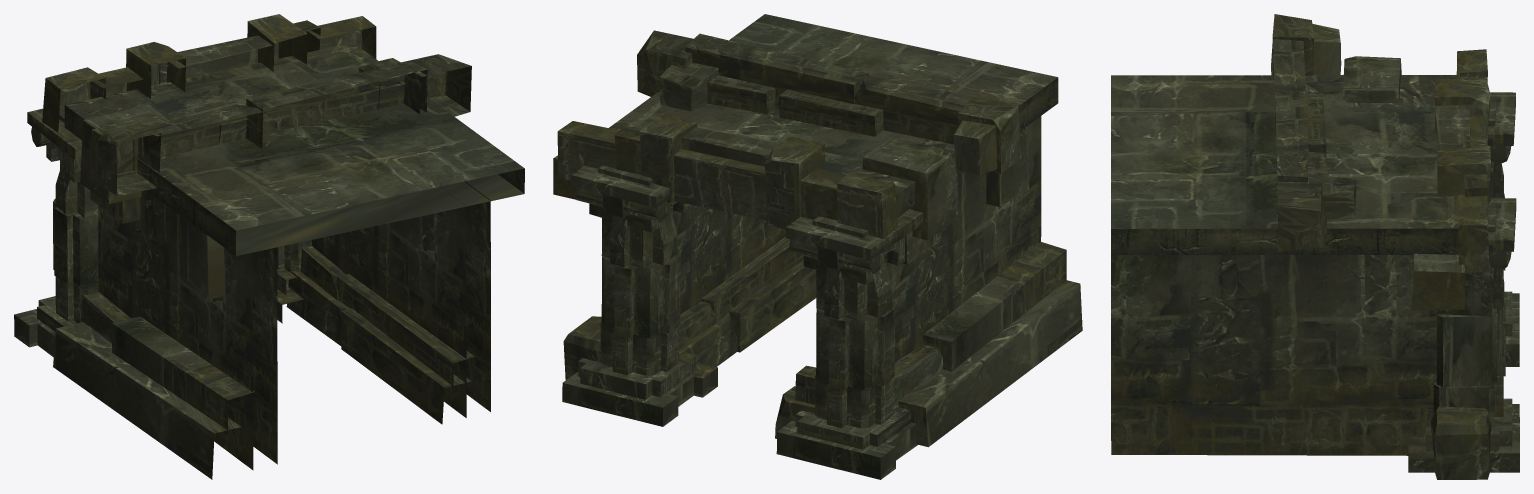
File: zhanchang10_chushengdian.FBX
The picture shows the model from 3 angles, left to right: view 1: azimuth 30°, elevation 25°; view 2: azimuth 150°, elevation 25°; view 3: azimuth 270°, elevation 25°; orthographic projection. The views are drawn at different scales.
Visible parts, largest first — view 1: chushengdian; view 2: chushengdian; view 3: chushengdian.
Part boxes in pixels (x1,y1,x2,y2): chushengdian: (14,14,524,479); chushengdian: (553,14,1082,479); chushengdian: (1111,14,1519,479).
Size of the model in its own units: 1010 by 753 by 948.
